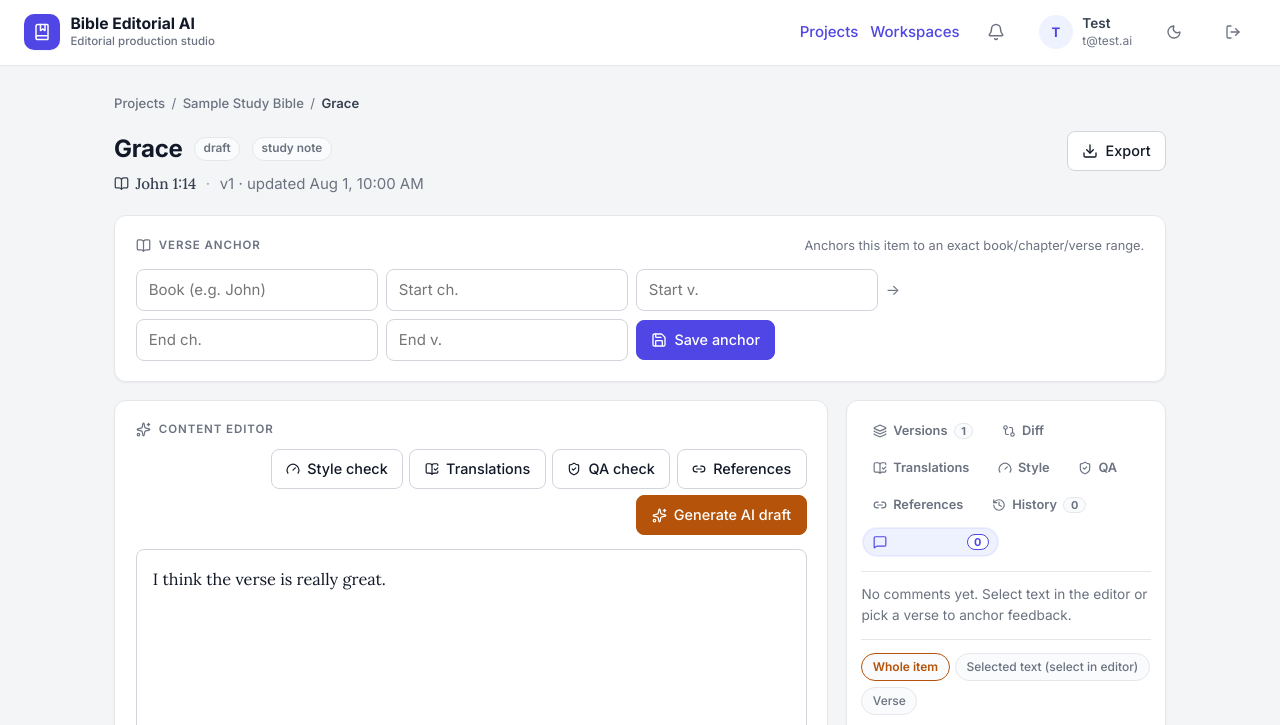
Scenario: Editor style-guide check › toggles inline highlights of the flagged snippets
Expected: the heading "Grace" is shown, x1=114 y1=131 x2=183 y2=167
Click the button "Style check" at (337, 469), box x1=271 y1=449 x2=403 y2=489
(page scrolled)
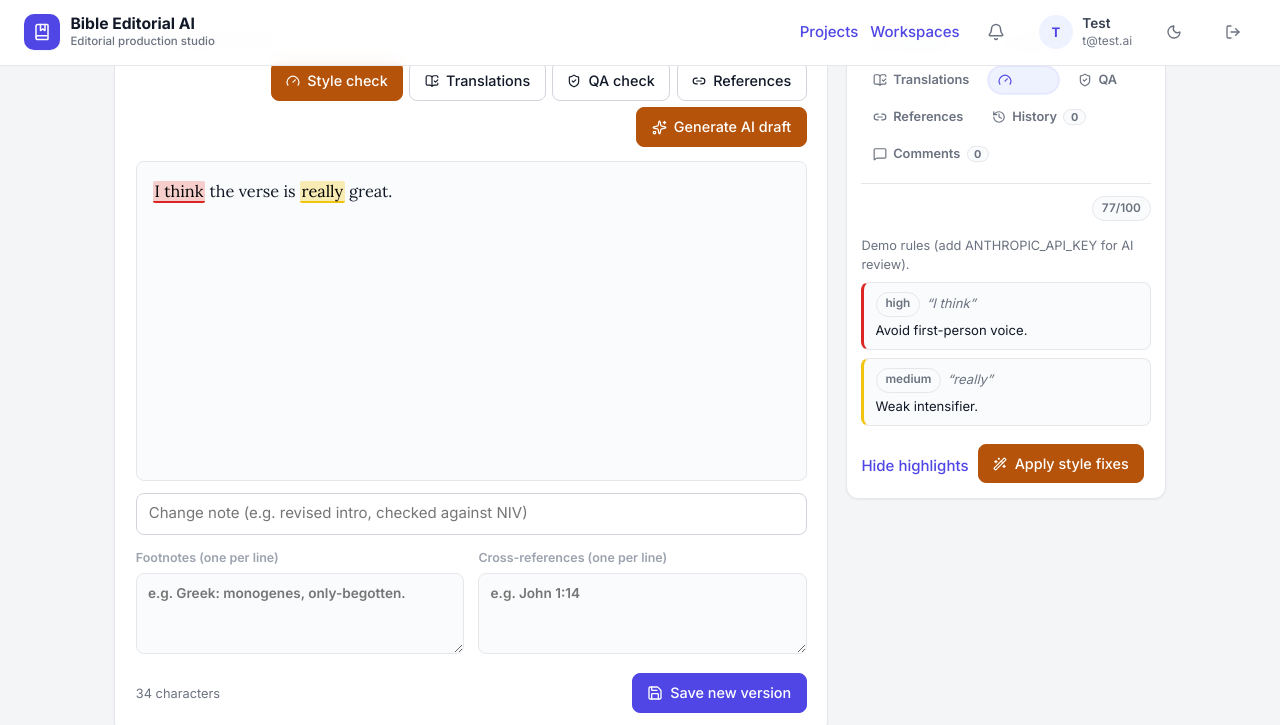
Now the text "77/100" is shown, box x1=1102 y1=200 x2=1141 y2=218
Now the text "I think" is shown, box x1=153 y1=181 x2=205 y2=203
Now the text with class "severity-high" reads "I think", box x1=154 y1=181 x2=204 y2=201
Click the button "Hide highlights" at (915, 466), box x1=861 y1=455 x2=968 y2=477
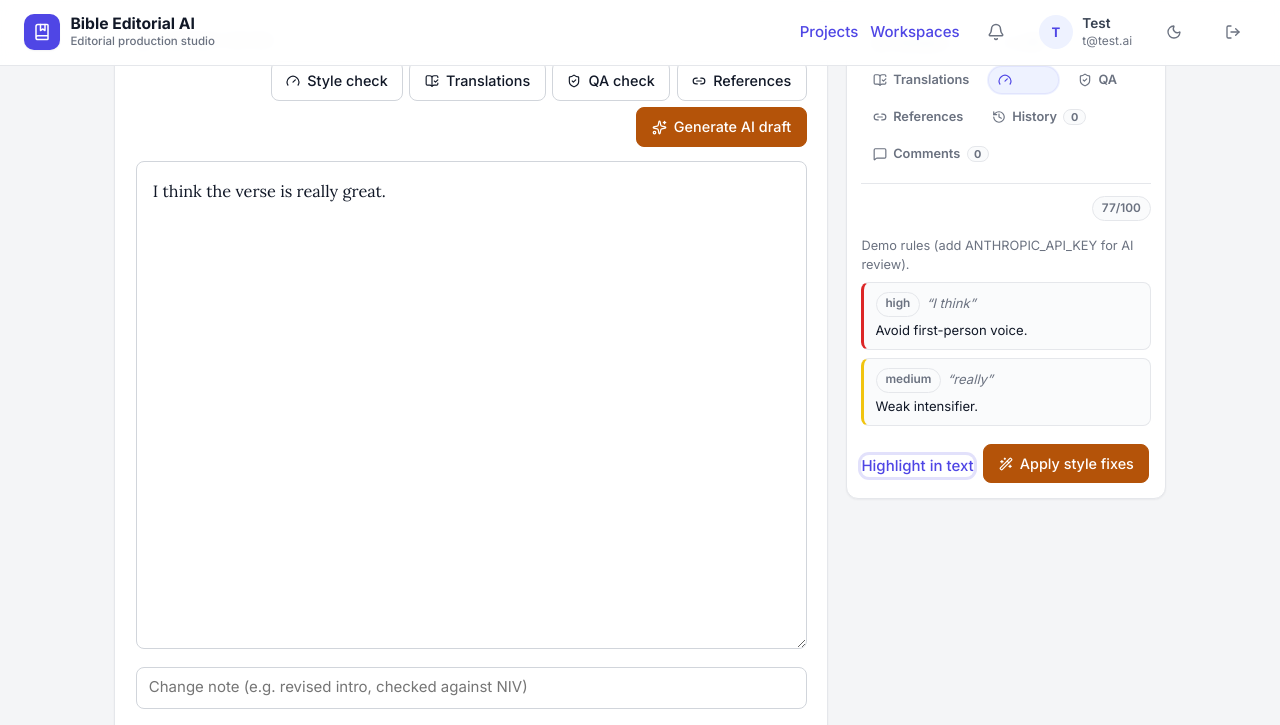
Now the text with class "style-mark" is gone
